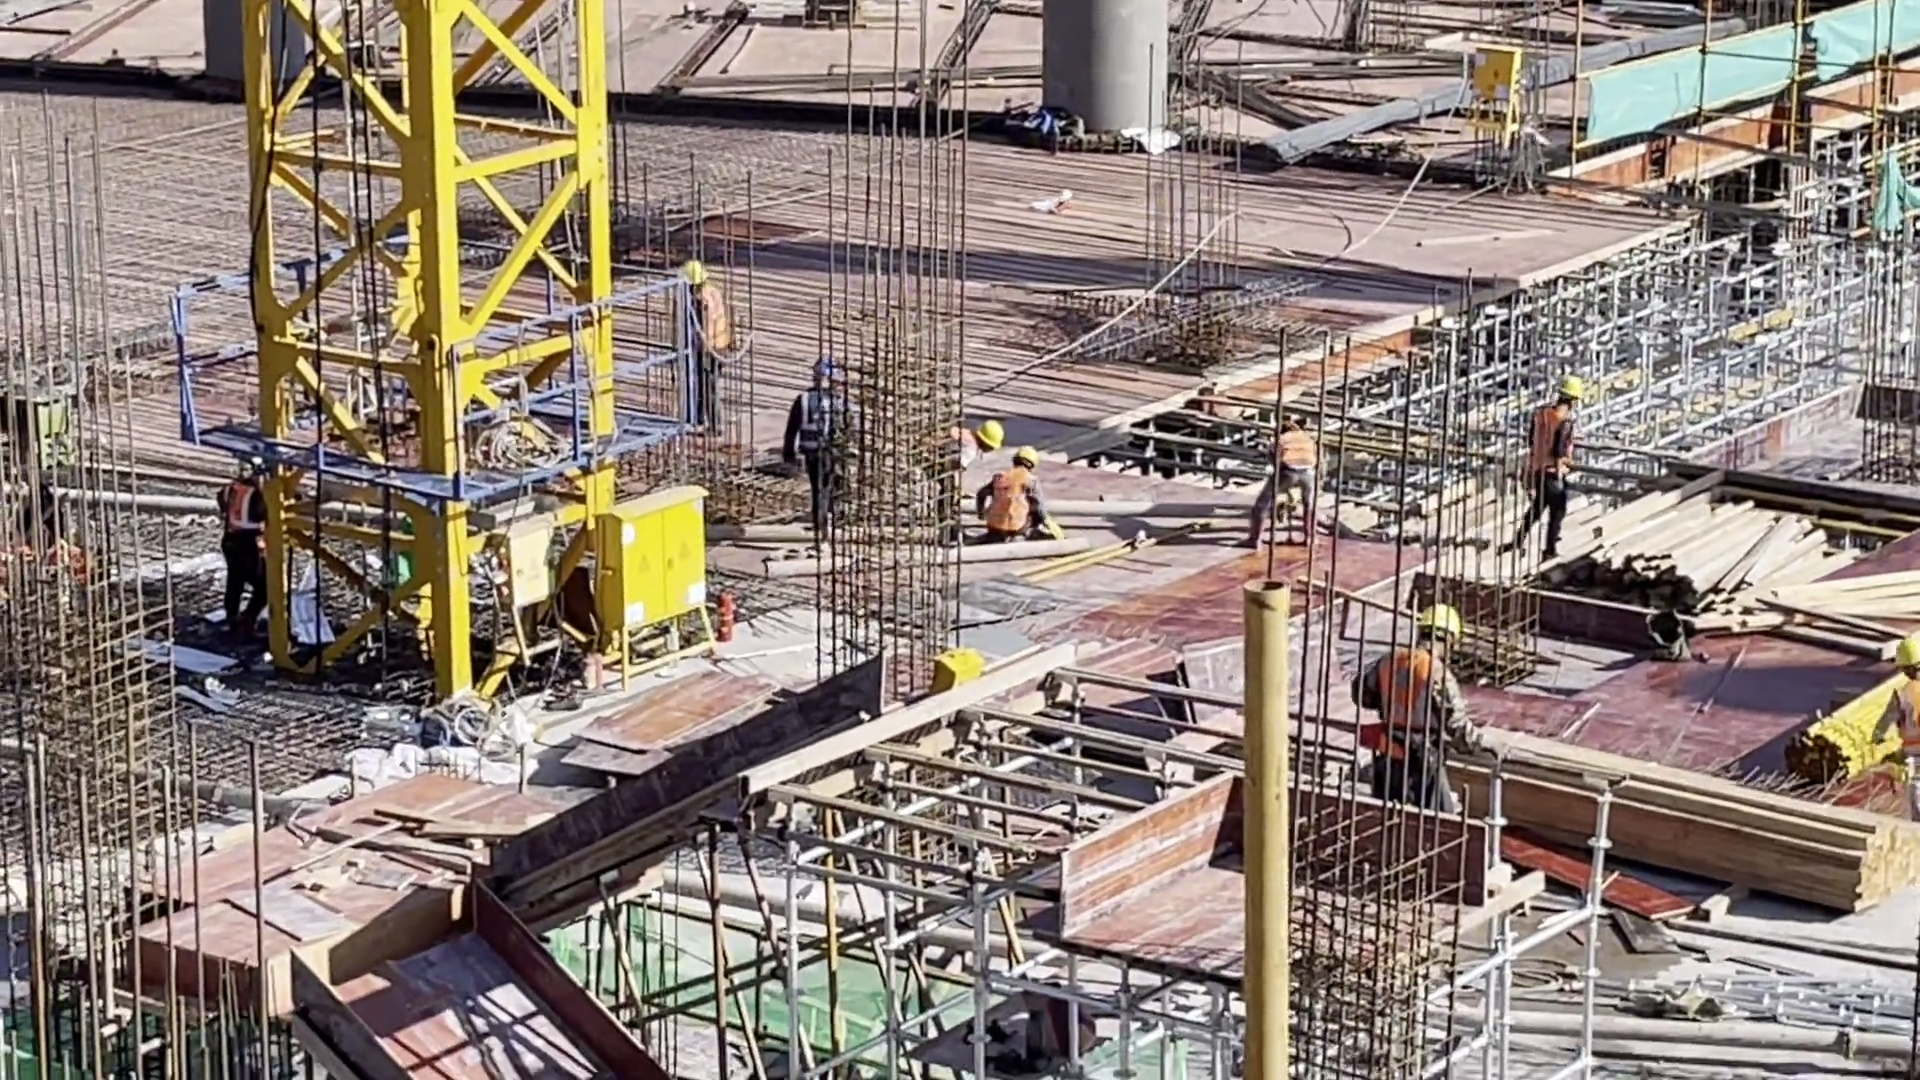helmet: (1416, 605, 1460, 641), (1895, 635, 1920, 665), (978, 422, 1005, 449), (681, 260, 705, 283), (1014, 446, 1038, 470), (1559, 376, 1581, 398)
person: (1348, 608, 1467, 809), (785, 357, 853, 544), (216, 454, 273, 637), (914, 417, 995, 540), (1250, 413, 1318, 555), (1524, 374, 1575, 560), (673, 266, 729, 430), (1865, 631, 1920, 787), (978, 445, 1056, 545)
vest: (1371, 651, 1443, 751), (1529, 411, 1571, 477), (1273, 429, 1317, 481), (697, 291, 728, 365), (990, 472, 1029, 530), (801, 395, 832, 457), (217, 480, 252, 530), (1898, 685, 1920, 737)
